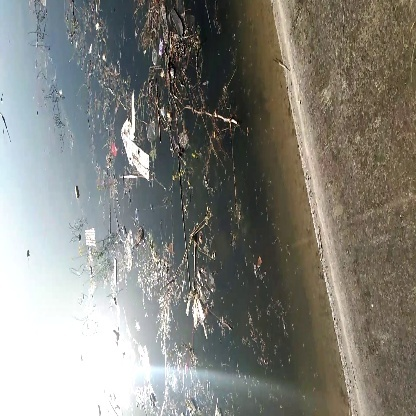plastic-bag: (116, 115, 155, 178)
